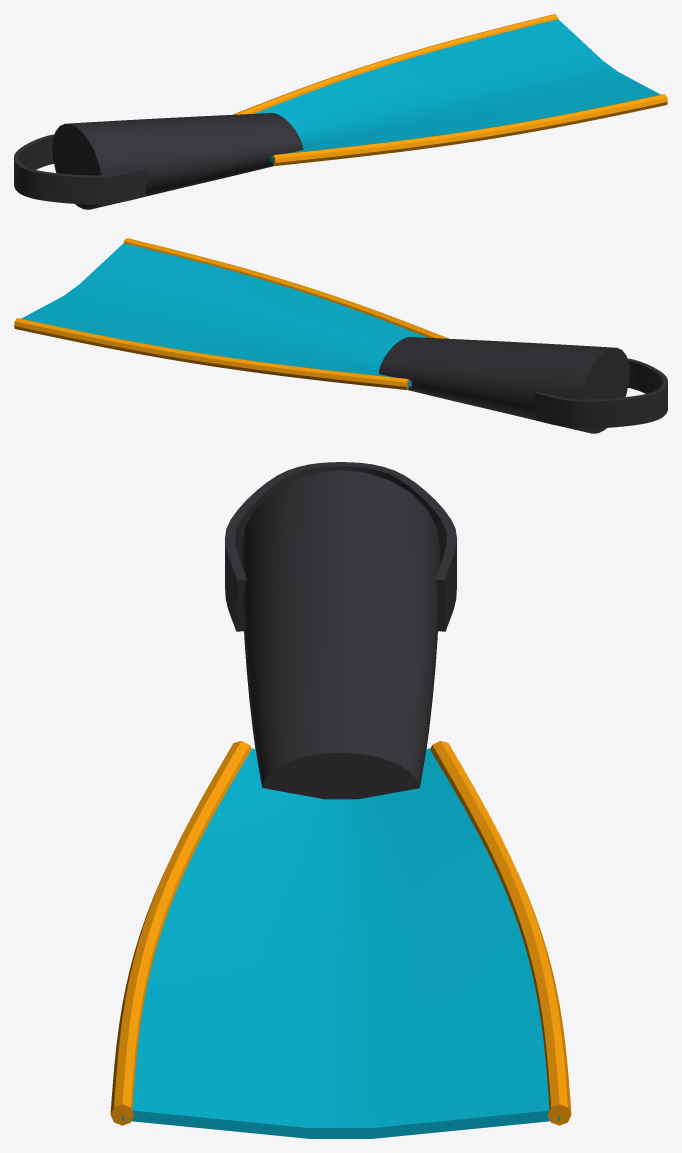
File: SM_Fin.fbx
The picture shows the model from 3 angles, top to bottom: view 1: azimuth 30°, elevation 25°; view 2: azimuth 150°, elevation 25°; view 3: azimuth 270°, elevation 25°; orthographic projection. The views are drawn at different scales.
Parts seen in each view (by area): view 1: SM_Fin; view 2: SM_Fin; view 3: SM_Fin.
Part boxes in pixels (x1,y1,x2,y2): SM_Fin: [14, 14, 667, 209]; SM_Fin: [14, 238, 667, 433]; SM_Fin: [110, 462, 571, 1138].
Size of the model in its own units: 0.6877 by 0.087 by 0.232.
